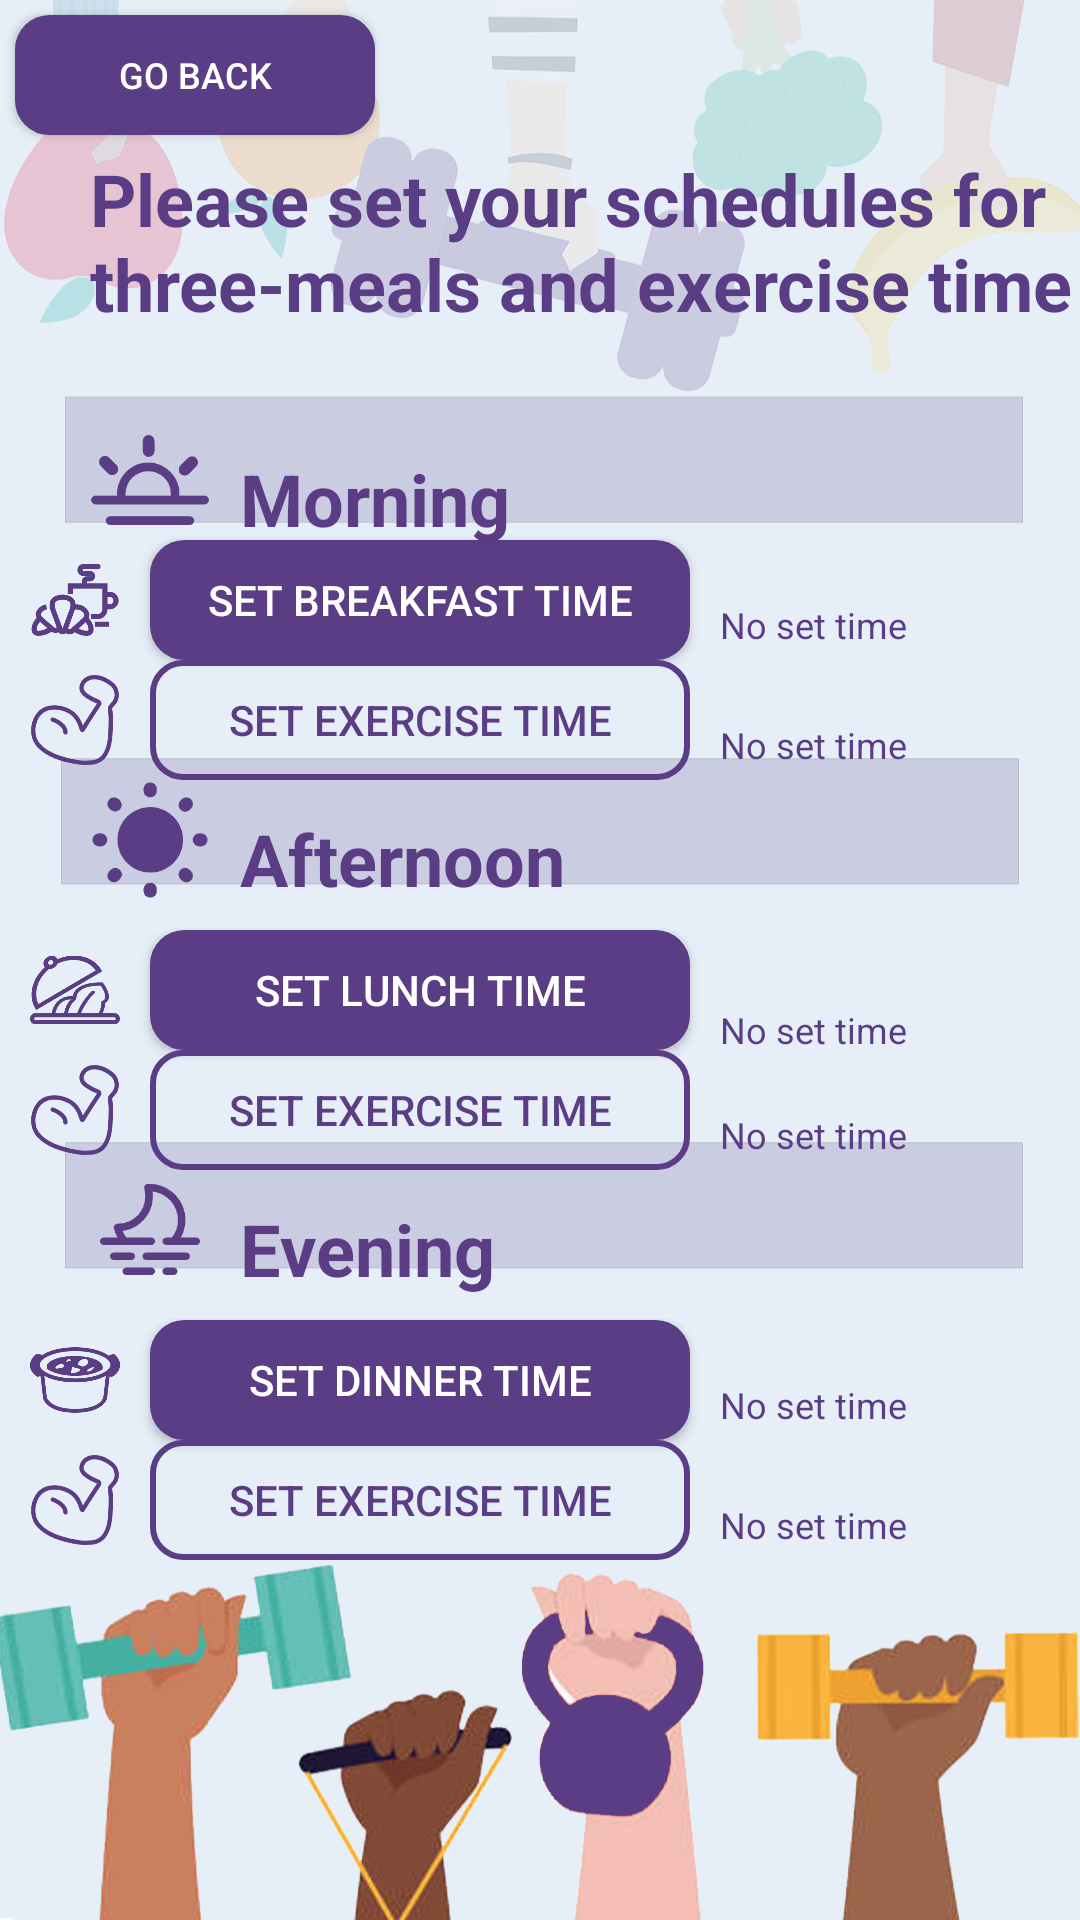

Screen size 1080x1920. Icon name, then its box in pixels as (x1, y1, x2, y2):
exersize: (31, 675, 120, 765), (31, 1065, 120, 1155), (31, 1455, 119, 1545)
